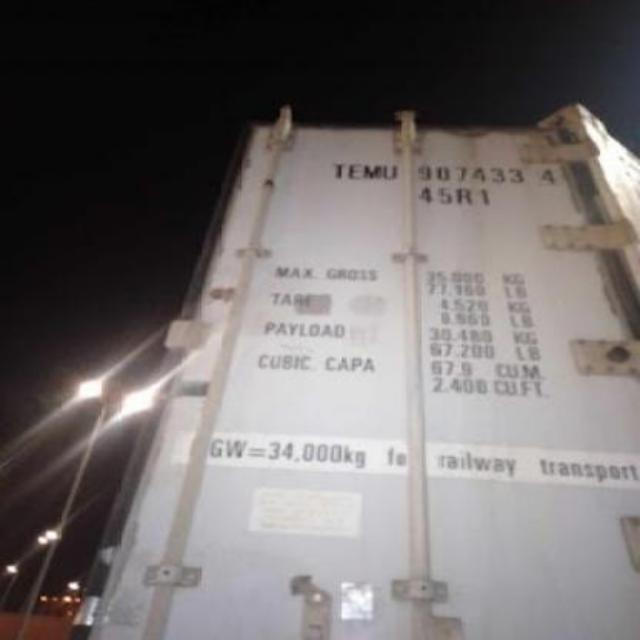0: (432, 154, 452, 184)
3: (486, 156, 506, 186), (508, 158, 524, 186)
4: (538, 162, 560, 184), (470, 156, 486, 186)
7: (450, 154, 470, 184)
9: (414, 157, 432, 183)
E: (346, 154, 362, 188)
M: (362, 156, 380, 188)
T: (330, 157, 346, 183)
U: (382, 156, 400, 188)
